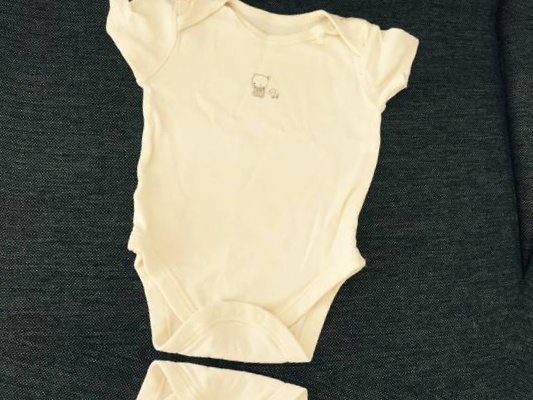Body: (63, 0, 447, 384), (13, 347, 396, 400), (114, 0, 497, 2)
